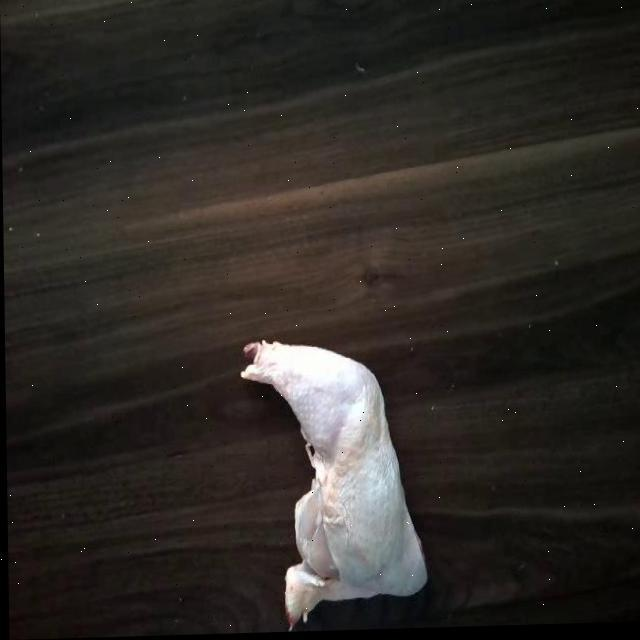quater: (242, 343, 440, 634)
